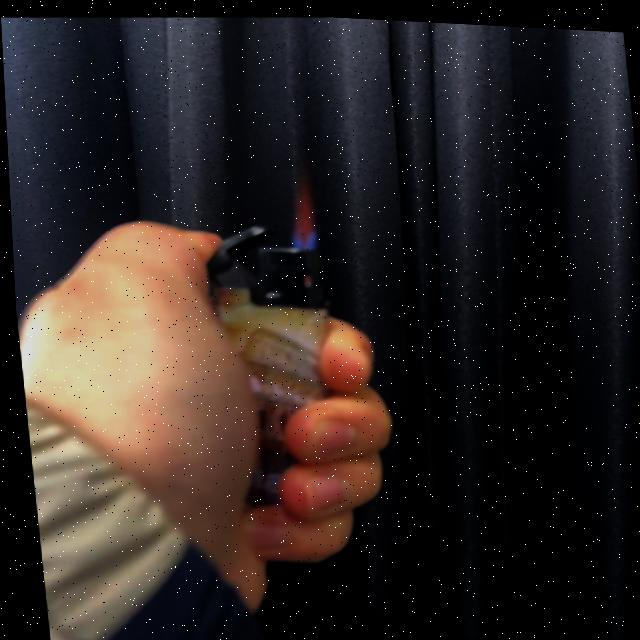Fire: (278, 163, 326, 248)
